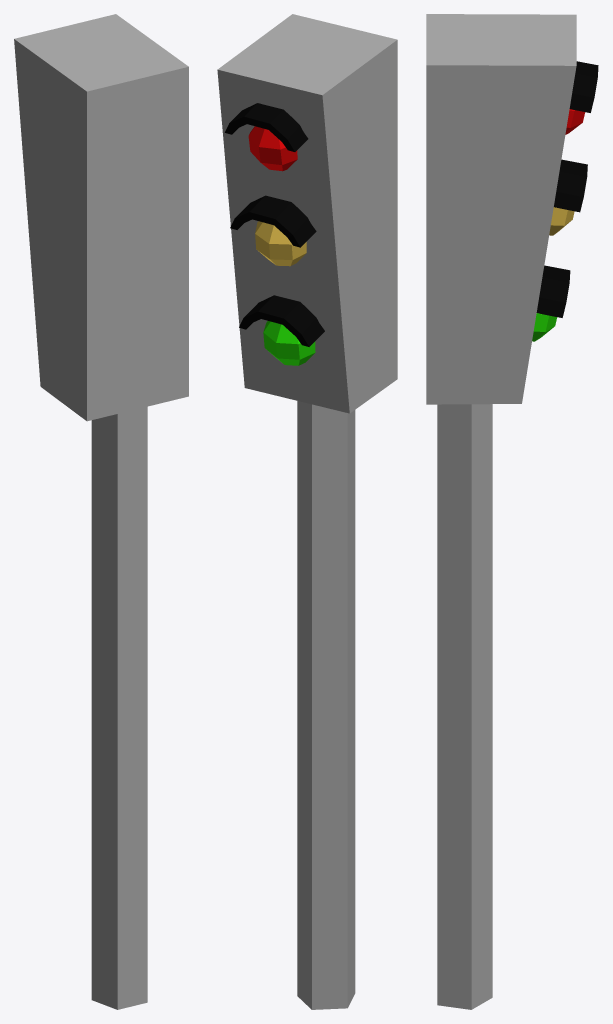
Rendered from Ampel.fbx.
The picture shows the model from 3 angles, left to right: view 1: azimuth 30°, elevation 25°; view 2: azimuth 150°, elevation 25°; view 3: azimuth 270°, elevation 25°; orthographic projection. The views are drawn at different scales.
Visible parts, largest first — view 1: Ampel; view 2: Ampel; view 3: Ampel.
Part boxes in pixels (x1,y1,x2,y2): Ampel: (14,14,188,1009); Ampel: (217,14,397,1009); Ampel: (426,14,598,1009).
Bounding box in the file's own units: 59.46 × 519 × 84.41.
